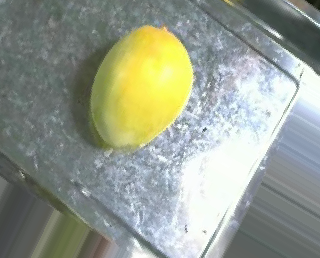Mango: (85, 25, 201, 157)
